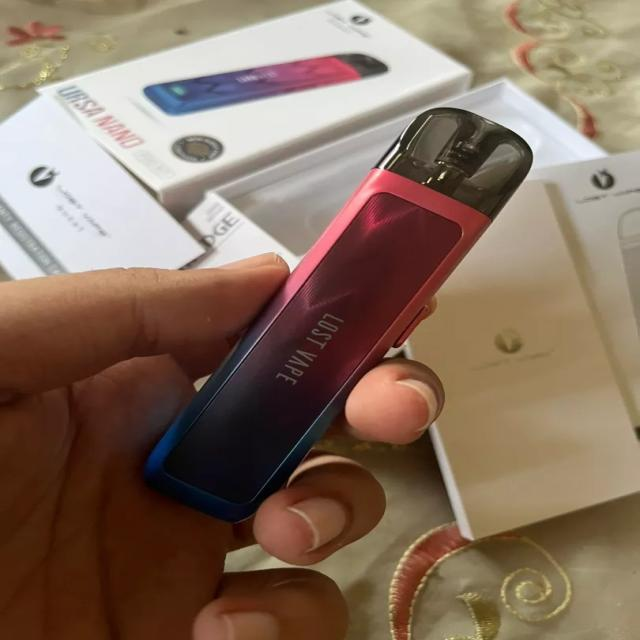Hazard: (132, 104, 534, 524), (146, 52, 389, 118)
